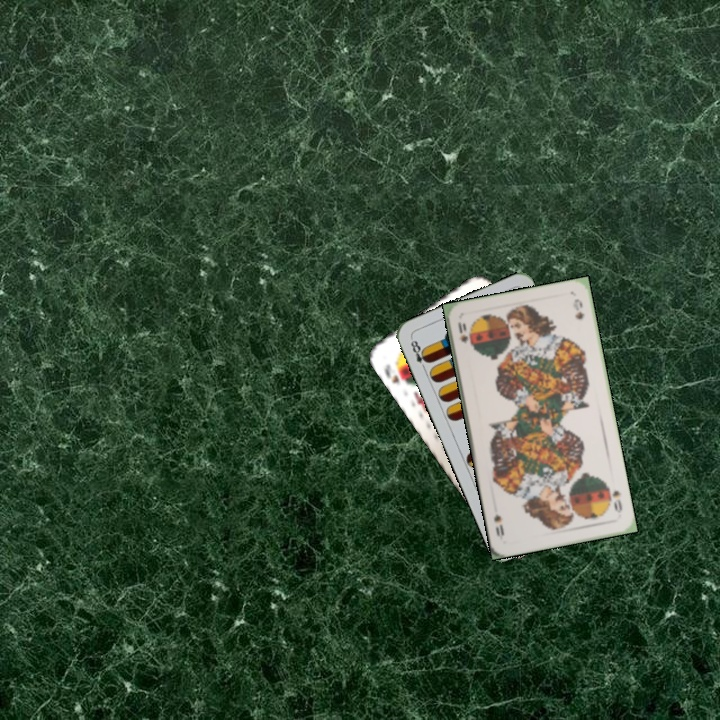E8: (406, 334, 432, 373)
SK: (380, 358, 411, 387)
SO: (604, 482, 625, 515), (454, 318, 474, 349)
